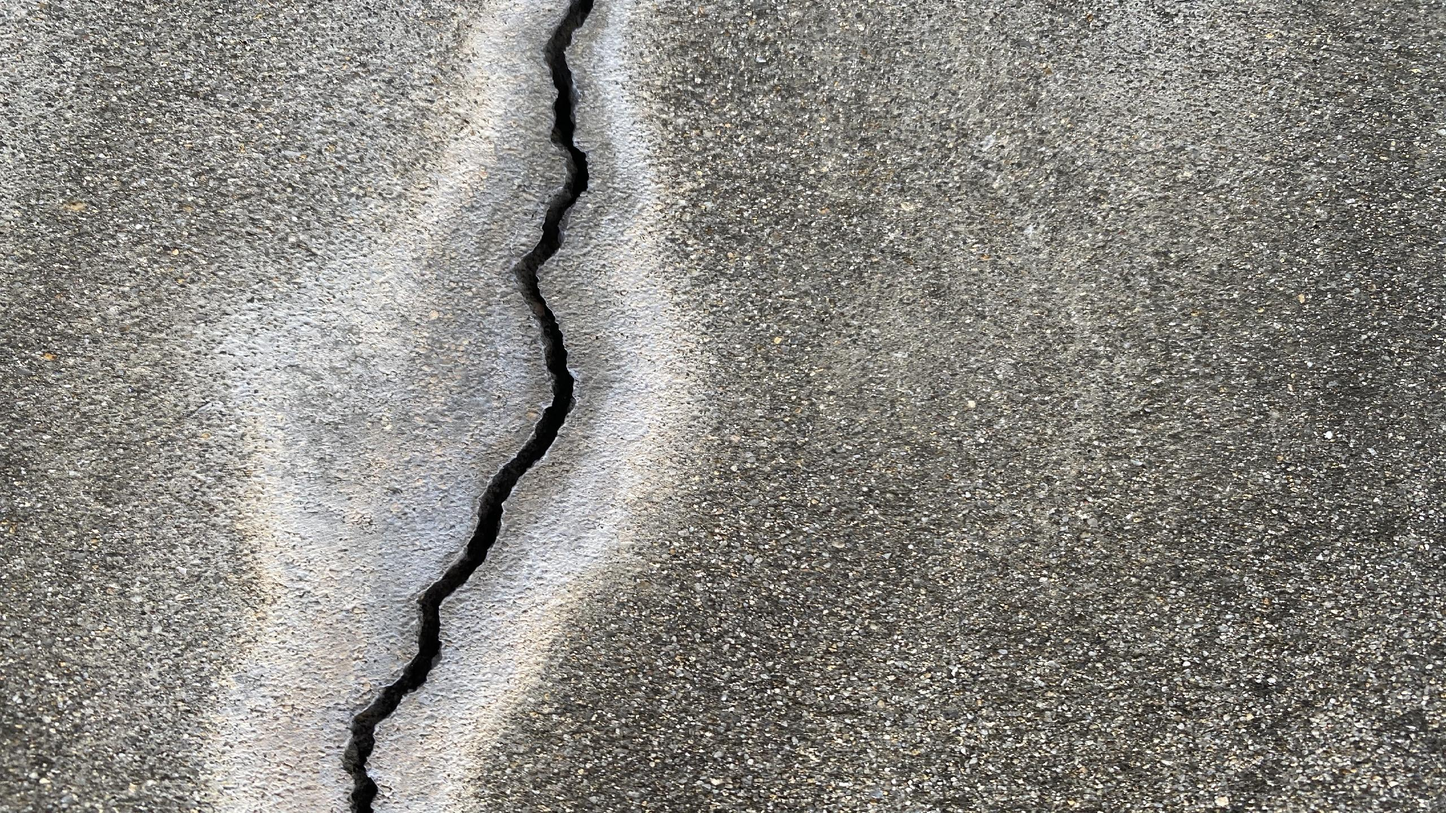crack: (334, 0, 602, 812)
